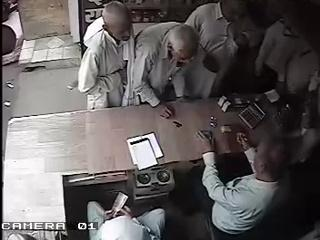Normal: (198, 130, 293, 240), (131, 21, 200, 118), (182, 0, 234, 100), (87, 197, 165, 240)
shoplifting: (76, 1, 136, 110)
